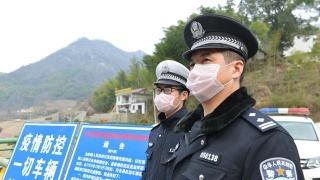Mask: (188, 51, 243, 99), (151, 75, 185, 115)
